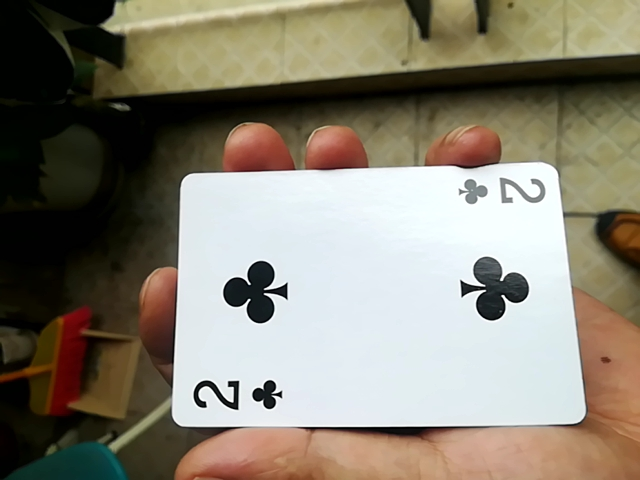mh 2: (162, 157, 576, 440)
